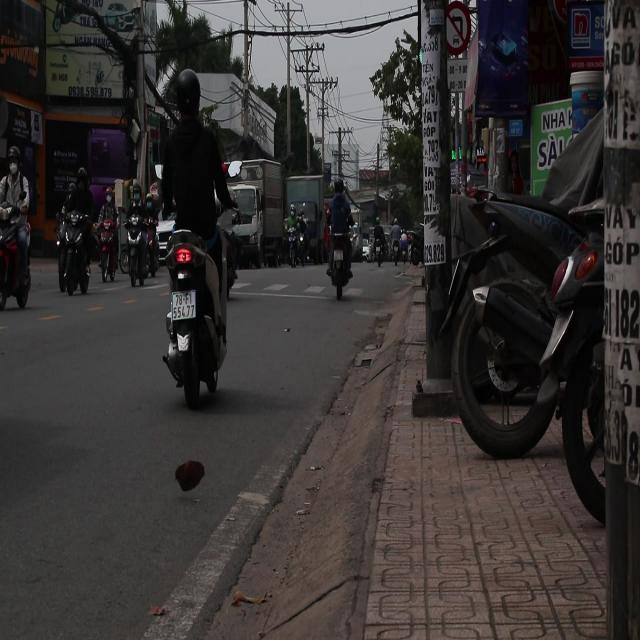motorbike: (154, 223, 226, 403), (0, 162, 33, 311), (314, 202, 360, 300), (57, 196, 96, 307), (118, 192, 161, 286), (94, 208, 120, 285)
truck: (224, 161, 285, 269)
